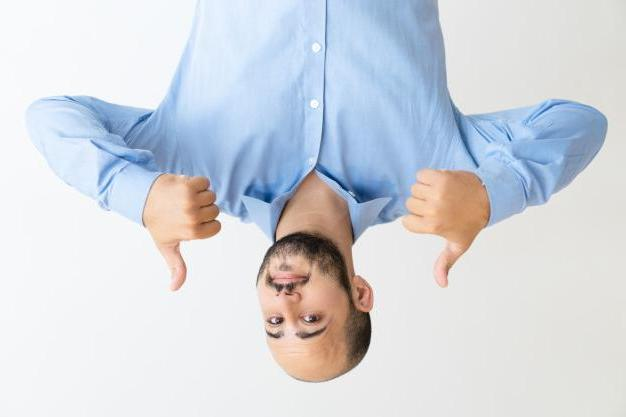thumbsdown: (402, 169, 467, 288), (165, 177, 221, 292)
